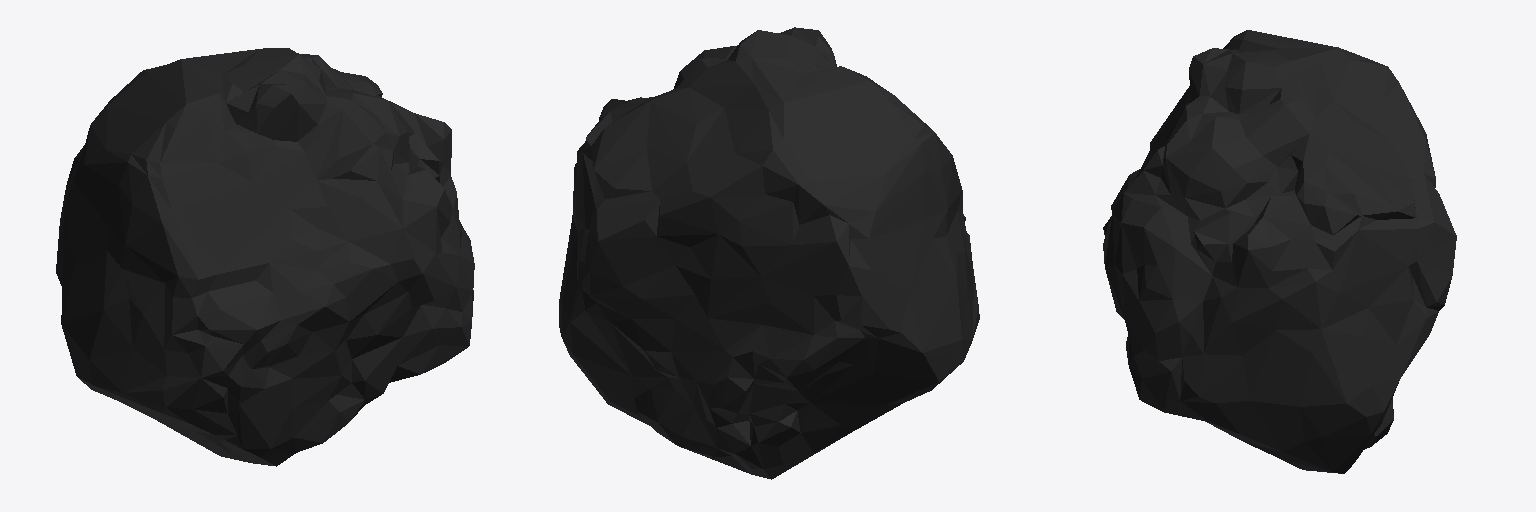
The model's file is rock01.obj.
The picture shows the model from 3 angles: view 1: azimuth 30°, elevation 25°; view 2: azimuth 150°, elevation 25°; view 3: azimuth 270°, elevation 25°; orthographic projection.
Parts seen in each view (by area): view 1: rock_low.002_Group58368.002; view 2: rock_low.002_Group58368.002; view 3: rock_low.002_Group58368.002.
Part boxes in pixels (left/top/right/bottom): rock_low.002_Group58368.002: left=56, top=48, right=474, bottom=466; rock_low.002_Group58368.002: left=559, top=27, right=979, bottom=479; rock_low.002_Group58368.002: left=1103, top=30, right=1456, bottom=473.
Size of the model in its own units: 1.78 by 1.96 by 1.51.